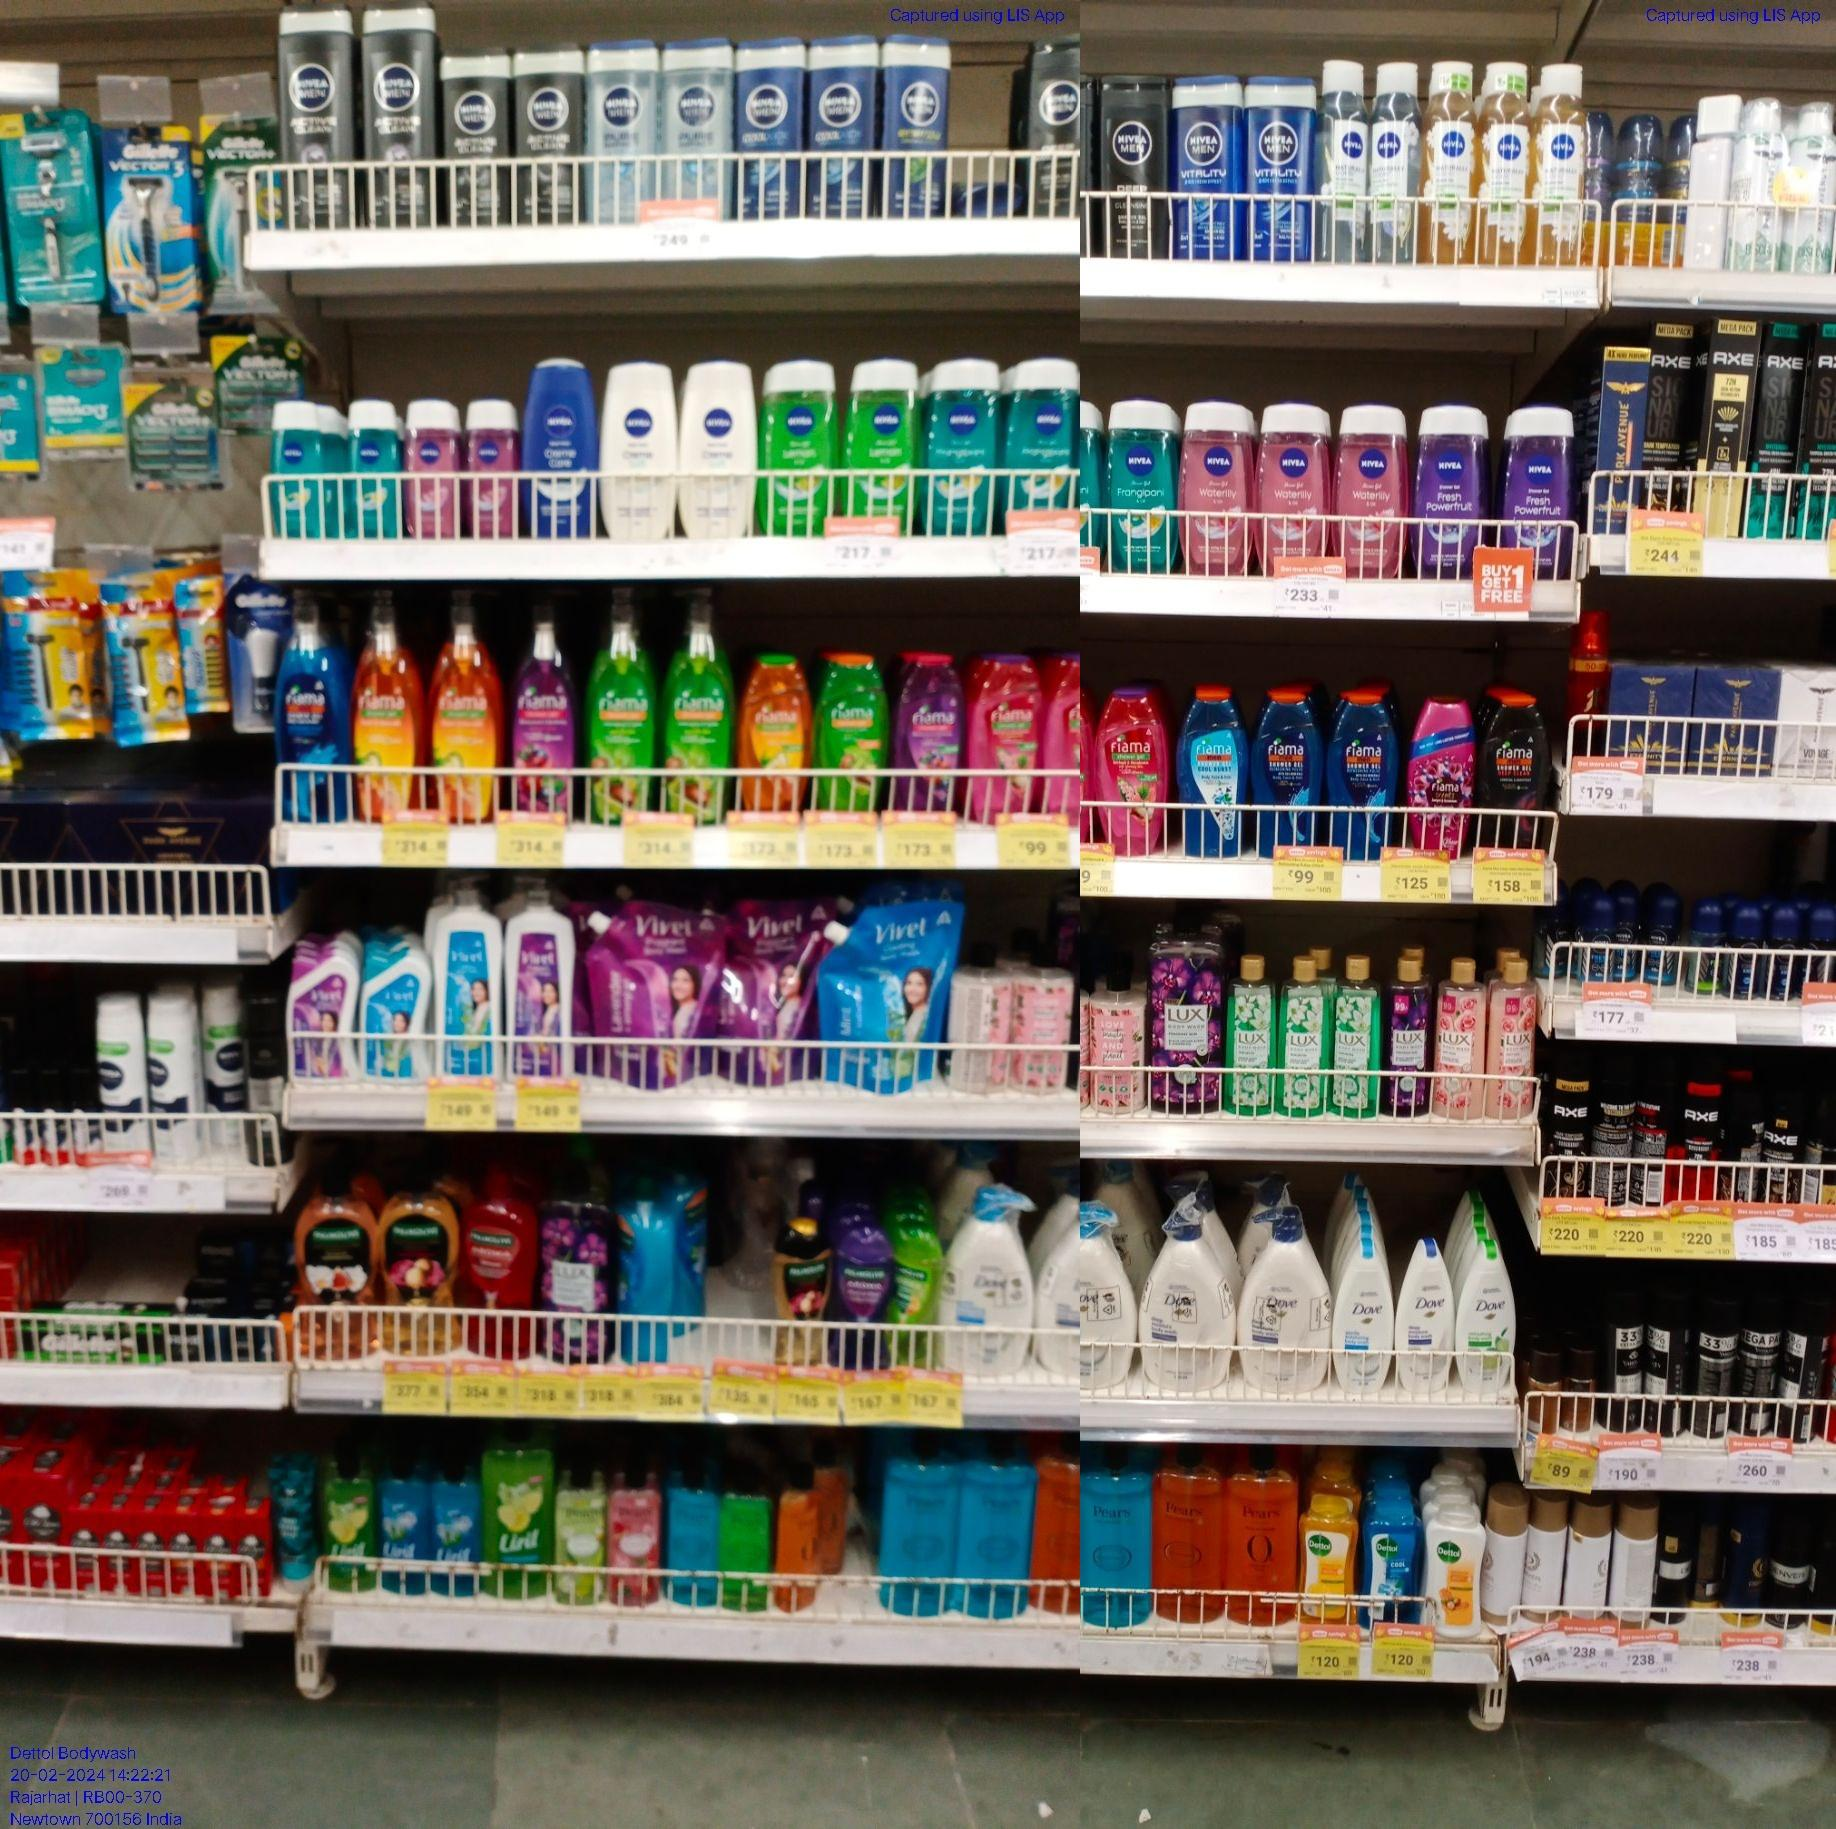Dettol_Bodywash_Cool: (1360, 1504, 1421, 1623)
Dettol_Bodywash_Refresh: (1302, 1502, 1355, 1621)
Dettol_Nourish_Body_Wash_250ML: (1426, 1502, 1479, 1636)
Dove_Deep_Moisture_Body_Wash_250ML: (1397, 1241, 1454, 1394)
Dove_Gentle_Exfoliating_Body_Wash_250ML: (1332, 1258, 1395, 1394)
Dove_Refreshing_Body_Wash_250ML: (1457, 1241, 1516, 1388)
Fiama_Shower_Gel_Lemongrass_and_Jojoba_250ML: (814, 658, 886, 814)
Fiama_Shower_Gel_Patchouli_and_Macadamia_250ML: (382, 1151, 462, 1353), (970, 650, 1039, 812), (1097, 688, 1168, 842)
Fiama_Shower_Gel_Peach_and_Avocado_250ML: (739, 658, 811, 809)
Liril_Cooling_Mint_Body_Wash_250ML: (434, 1445, 481, 1593), (384, 1445, 427, 1593)
Liril_Lime_and_Tea_Tree_Oil_Body_Wash_250ML: (320, 1445, 375, 1591)
Lux_Black_Orchid_Scent_and_Juniper_Oil_Body_Wash_245ML: (1385, 948, 1429, 1115)
Lux_Body_Wash_Skin_Detox_Freesia_Scent_and_Alove_Vera_245ML: (1280, 958, 1332, 1114), (1225, 956, 1275, 1115), (1337, 955, 1382, 1119)
Nivea_Creme_Care_Body_Wash_250ML: (524, 353, 593, 533)
Nivea_Creme_Soft_Body_Wash_250ML: (600, 362, 678, 536), (683, 358, 756, 536)
Nivea_Shower_Gel_Frangipani_and_Oil_250ML: (925, 353, 995, 534), (1106, 399, 1173, 573), (1005, 360, 1080, 504)
Nivea_Shower_Gel_Fresh_Powerfruit_250ML: (1494, 404, 1578, 539), (1414, 404, 1488, 548)
Nivea_Shower_Gel_Lemon_and_Oil_250ML: (761, 358, 838, 516), (844, 362, 920, 513)
Nivea_Shower_Gel_Waterlily_and_Oil_250ML: (1181, 397, 1251, 576), (1333, 400, 1407, 563), (1256, 405, 1323, 553)
Palmolive_Luminous_Oils_With_White_Orchid_Shower_Gel_250ML: (298, 1156, 379, 1357)
Pears_Naturale_Aloe_Vera_Body_Wash_250ML: (554, 1477, 603, 1608)
Pears_Pure_Glycerin_and_Mint_Extracts_Body_Wash_250ML: (665, 1457, 715, 1603)
